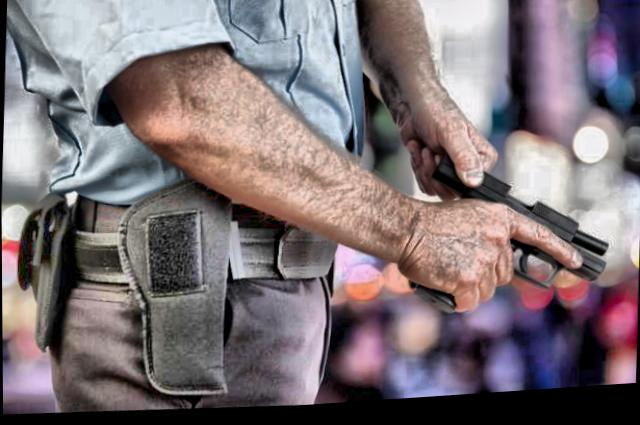pistol: (403, 143, 610, 325)
